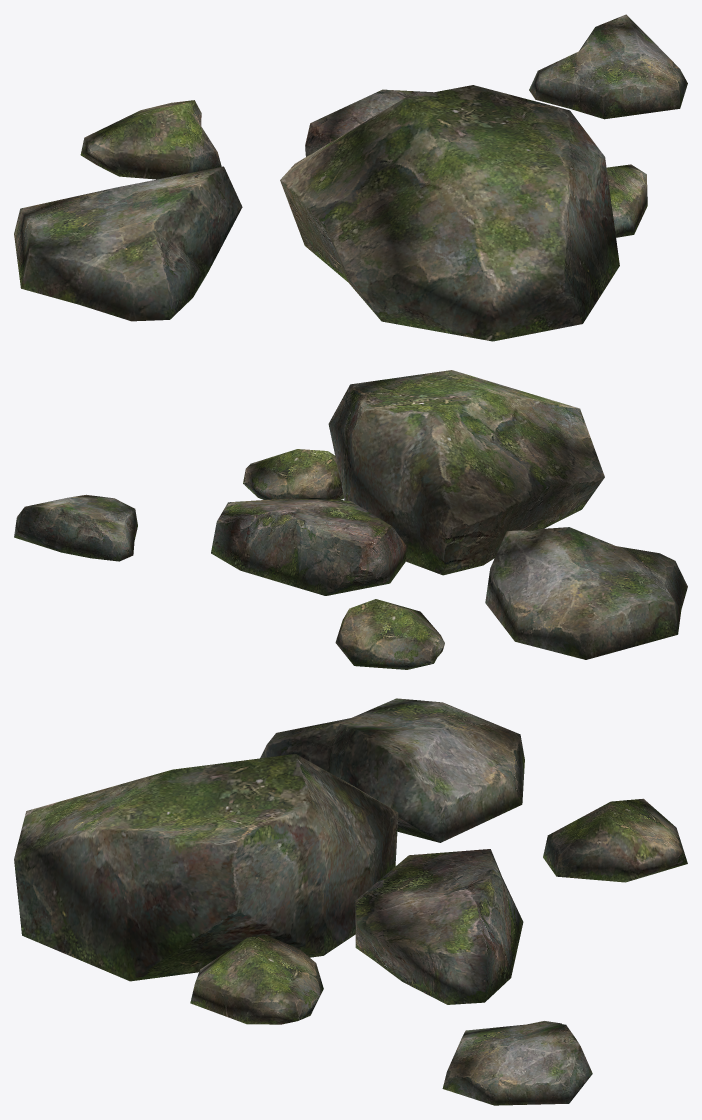
The model's file is Rock03.glb.
The picture shows the model from 3 angles, top to bottom: view 1: azimuth 30°, elevation 25°; view 2: azimuth 150°, elevation 25°; view 3: azimuth 270°, elevation 25°; orthographic projection. The views are drawn at different scales.
Visible parts, largest first — view 1: common_rock_03; view 2: common_rock_03; view 3: common_rock_03.
Part boxes in pixels (bbox=[...]): common_rock_03: bbox=[14, 14, 687, 341]; common_rock_03: bbox=[14, 370, 687, 669]; common_rock_03: bbox=[14, 698, 687, 1105].
Bounding box in the file's own units: 3.29 × 0.6424 × 2.52.
Materials: 1 (1 with a texture image).
